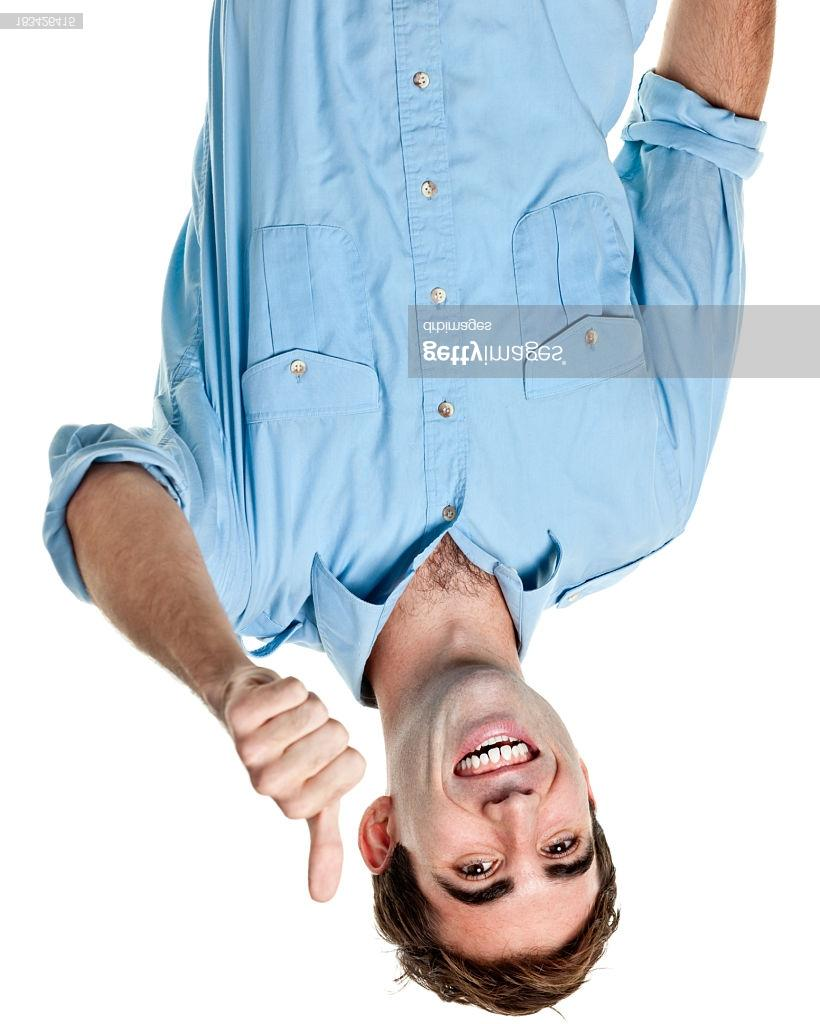thumbsdown: (224, 676, 367, 904)
